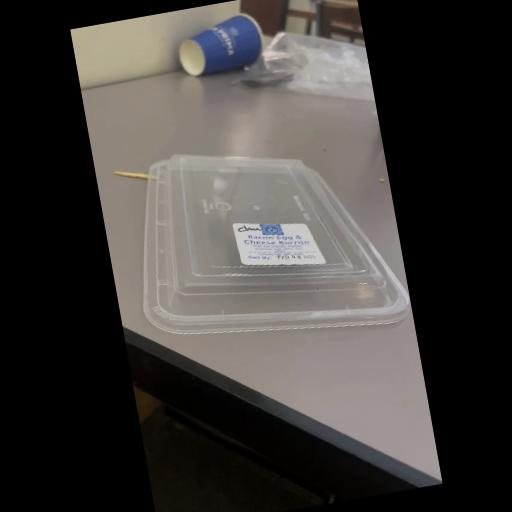rigid_plastic_lid: (116, 112, 416, 386)
